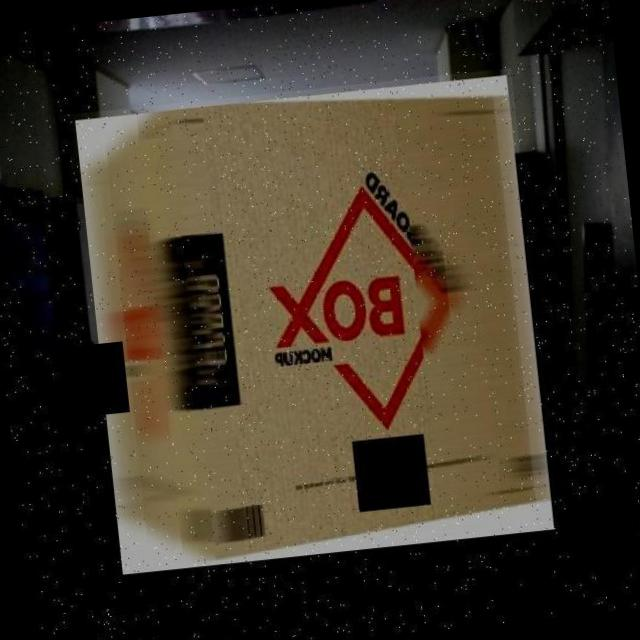box: (67, 68, 560, 582)
